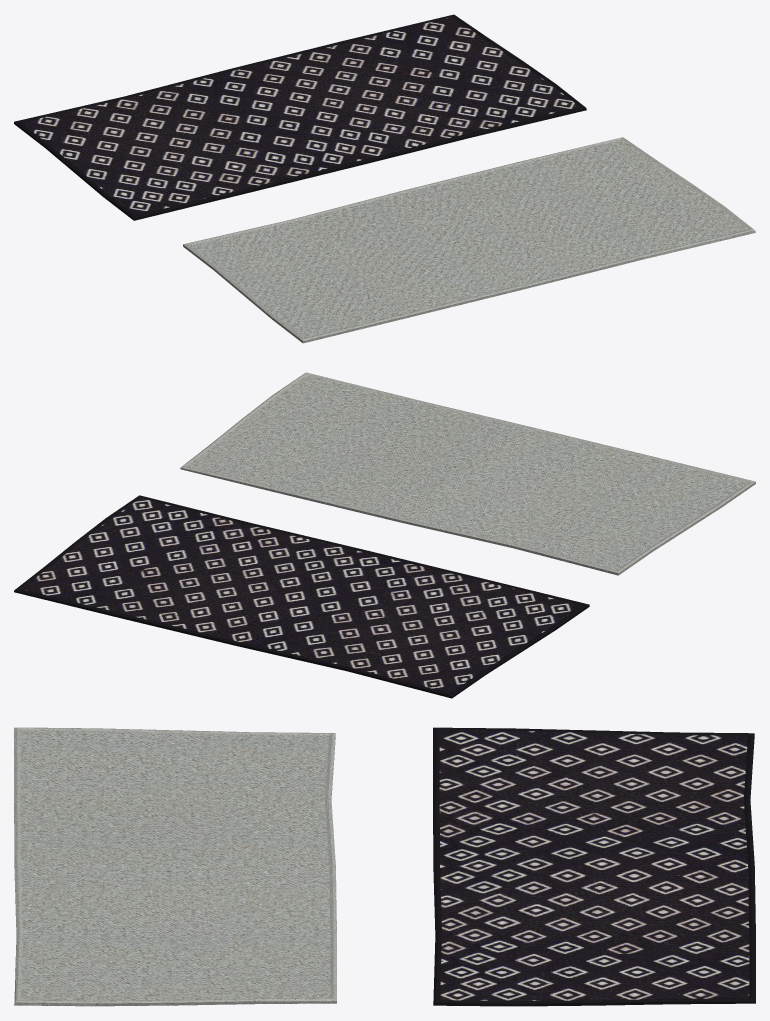
File: Carpets.fbx
The picture shows the model from 3 angles, top to bottom: view 1: azimuth 30°, elevation 25°; view 2: azimuth 150°, elevation 25°; view 3: azimuth 270°, elevation 25°; orthographic projection. The views are drawn at different scales.
Visible parts, largest first — view 1: Carpet2_low, Carpet1_low; view 2: Carpet1_low, Carpet2_low; view 3: Carpet1_low, Carpet2_low.
Part boxes in pixels (box(x1,y1,x2,y2)): Carpet2_low: box(14, 14, 586, 220); Carpet1_low: box(183, 137, 755, 343); Carpet1_low: box(180, 372, 755, 575); Carpet2_low: box(14, 495, 589, 698); Carpet1_low: box(14, 727, 336, 1006); Carpet2_low: box(433, 727, 755, 1006).
Bounding box in the file's own units: 245 × 2.47 × 278.
2 materials, 2 textured.
